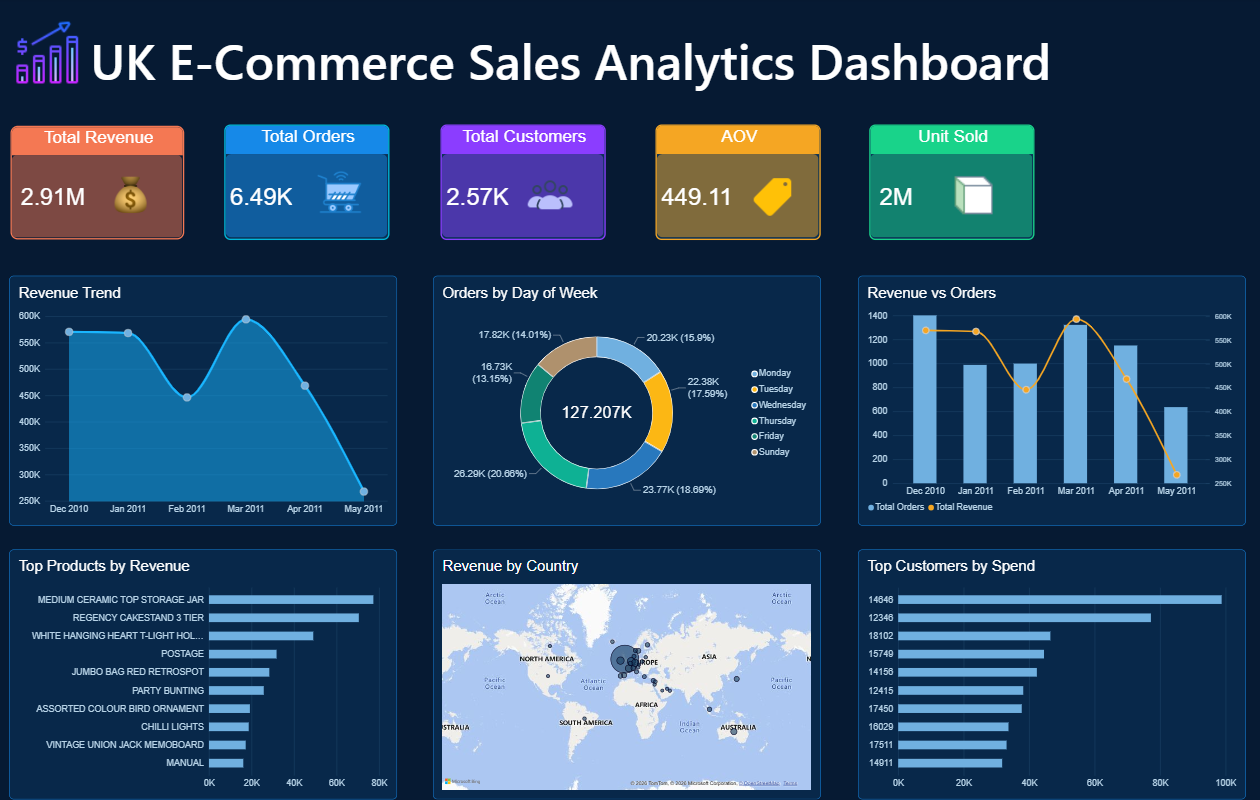

What the dashboard file says about the page in this screenshot:
{"tool":"powerbi","page":{"name":"Page 1","canvas":[2560,1440],"ordinal":0},"visuals":[{"type":"cardVisual","title":"Total Orders","fields":{"Data":["Count(ecommerce_sales_export.InvoiceNo)"]},"box":[405.2,227.9,295,206],"z":0},{"type":"cardVisual","title":"Total Customers","fields":{"Data":["Count(ecommerce_sales_export.CustomerID)"]},"box":[789.5,227.9,295,206],"z":1000},{"type":"cardVisual","title":"AOV","fields":{"Data":["ecommerce_sales_export.AOV"]},"box":[1173.8,227.9,295,206],"z":2000},{"type":"cardVisual","title":"Unit Sold","fields":{"Data":["Sum(ecommerce_sales_export.Quantity)"]},"box":[1555.8,227.9,295,206],"z":3000},{"type":"lineChart","title":"Revenue Trend","fields":{"Y":["ecommerce_sales_export.Total Revenue"],"Category":["ecommerce_sales_export.Month"]},"box":[20.9,497.7,693,446],"z":4000},{"type":"donutChart","title":"Orders by Day of Week","fields":{"Category":["ecommerce_sales_export.Weekday"],"Y":["CountNonNull(ecommerce_sales_export.InvoiceNo)"]},"box":[776.7,497.7,693,446],"z":5000},{"type":"lineClusteredColumnComboChart","title":"Revenue vs Orders","fields":{"Category":["ecommerce_sales_export.Month"],"Y":["ecommerce_sales_export.Total Orders"],"Y2":["ecommerce_sales_export.Total Revenue"]},"box":[1536.5,498,693,446.5],"z":6000},{"type":"clusteredBarChart","title":"Top Products by Revenue","fields":{"Category":["ecommerce_sales_export.Description"],"Y":["ecommerce_sales_export.Total Revenue"]},"box":[20.9,986,693,446],"z":7000},{"type":"map","title":"Revenue by Country","fields":{"Category":["ecommerce_sales_export.Country"],"Size":["ecommerce_sales_export.Total Revenue"]},"box":[776.7,986,693,446],"z":8000},{"type":"clusteredBarChart","title":"Top Customers by Spend","fields":{"Category":["ecommerce_sales_export.CustomerID"],"Y":["ecommerce_sales_export.Total Revenue"]},"box":[1537.2,986,693,446],"z":9000},{"type":"textbox","box":[20.1,53.6,1913.9,154.1],"z":10000},{"type":"cardVisual","title":"Total Revenue","fields":{"Data":["ecommerce_sales_export.Total Revenue"]},"box":[21.4,230.3,310.6,203.5],"z":11000},{"type":"image","box":[176.4,312.7,120.6,80.4],"z":12000},{"type":"image","box":[911.2,312.7,150,80.3],"z":13000},{"type":"image","box":[1322.1,314.9,122.8,84.9],"z":14000},{"type":"image","box":[1683.9,314.9,118.4,78.2],"z":15000},{"type":"image","box":[553.8,303.7,111.7,89.3],"z":16000},{"type":"image","box":[0,31.3,176.4,136.2],"z":17000}]}

Visuals, with their boxes on the page's 2560x1440 design canvas (x1, y1, x2, y2). These are canvas units, not pixel positions in the 1260x800 screenshot, which may show the page scaled, cropped or inside an application window:
"Total Orders" cardVisual: 405,228,700,434
"Total Customers" cardVisual: 790,228,1084,434
"AOV" cardVisual: 1174,228,1469,434
"Unit Sold" cardVisual: 1556,228,1851,434
"Revenue Trend" lineChart: 21,498,714,944
"Orders by Day of Week" donutChart: 777,498,1470,944
"Revenue vs Orders" lineClusteredColumnComboChart: 1536,498,2230,944
"Top Products by Revenue" clusteredBarChart: 21,986,714,1432
"Revenue by Country" map: 777,986,1470,1432
"Top Customers by Spend" clusteredBarChart: 1537,986,2230,1432
textbox: 20,54,1934,208
"Total Revenue" cardVisual: 21,230,332,434
image: 176,313,297,393
image: 911,313,1061,393
image: 1322,315,1445,400
image: 1684,315,1802,393
image: 554,304,666,393
image: 0,31,176,168
